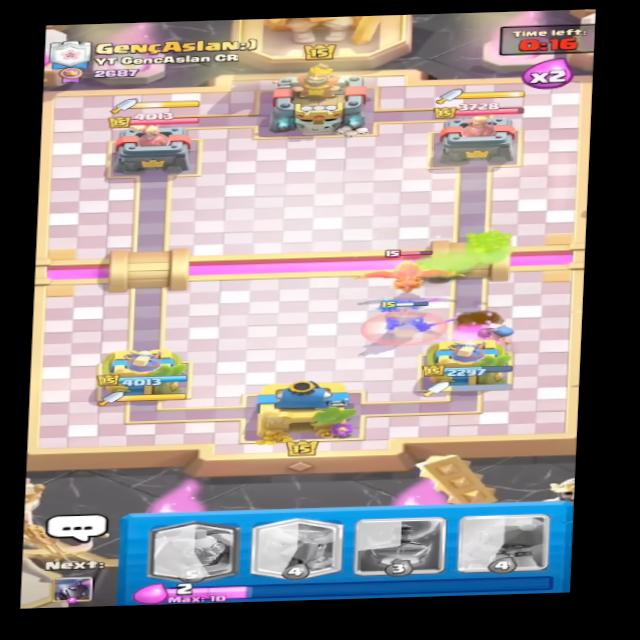phoenix: (350, 247, 460, 297)
